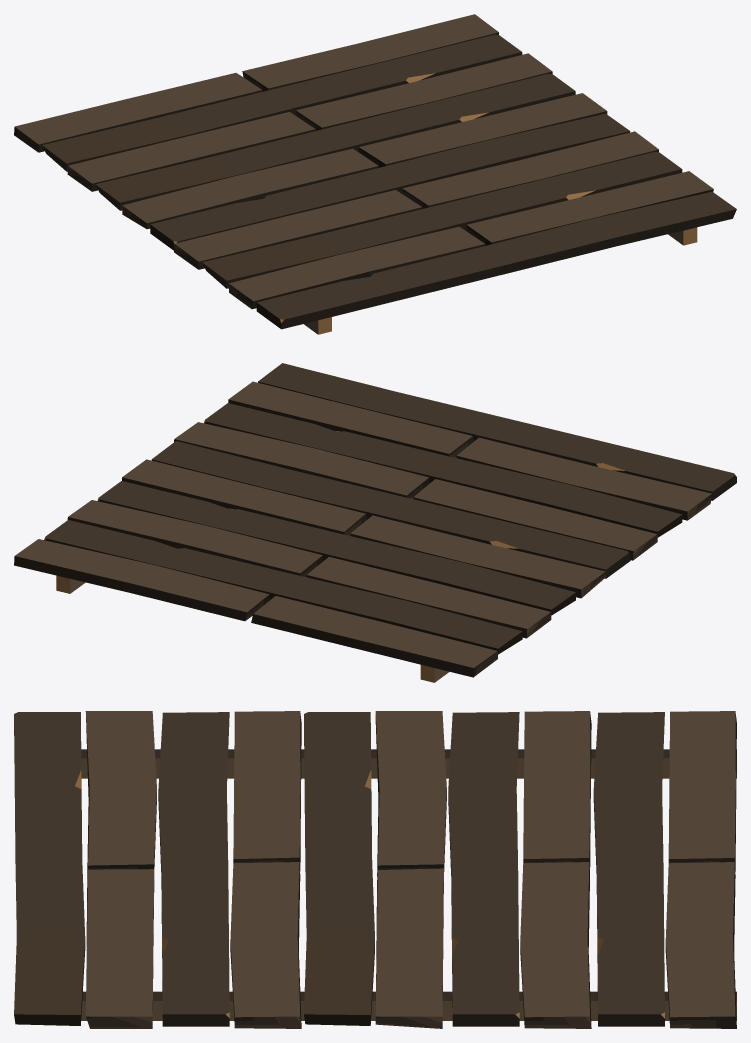
Rendered from Wood_Planks_2x2_Tileable.fbx.
The picture shows the model from 3 angles, top to bottom: view 1: azimuth 30°, elevation 25°; view 2: azimuth 150°, elevation 25°; view 3: azimuth 270°, elevation 25°; orthographic projection. The views are drawn at different scales.
Parts seen in each view (by area): view 1: Wood_Planks_2x2_Tileable; view 2: Wood_Planks_2x2_Tileable; view 3: Wood_Planks_2x2_Tileable.
Boxes of the visible parts, x1,y1,x2,y2 form: Wood_Planks_2x2_Tileable: (14, 14, 736, 334); Wood_Planks_2x2_Tileable: (14, 363, 736, 682); Wood_Planks_2x2_Tileable: (14, 711, 736, 1028).
Size of the model in its own units: 2 by 0.1 by 2.
